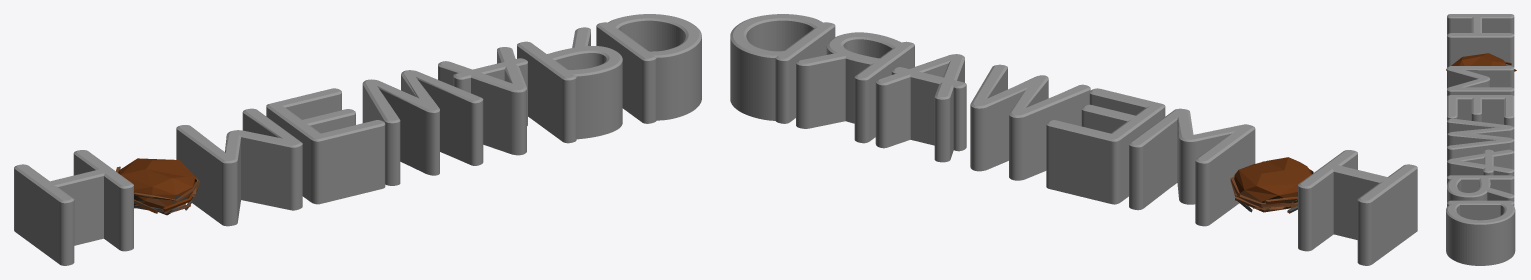
The model's file is NewHomeward.FBX.
3 renders of one model, left to right at view 1: azimuth 30°, elevation 25°; view 2: azimuth 150°, elevation 25°; view 3: azimuth 270°, elevation 25°, orthographic. The views are drawn at different scales.
Parts seen in each view (by area): view 1: _STL_BINARY_; view 2: _STL_BINARY_; view 3: _STL_BINARY_.
Part boxes in pixels (x1,y1,x2,y2): _STL_BINARY_: (14, 14, 701, 265); _STL_BINARY_: (730, 14, 1417, 265); _STL_BINARY_: (1446, 14, 1516, 265).
Size of the model in its own units: 548 by 77.84 by 52.
5 materials, 1 textured.
